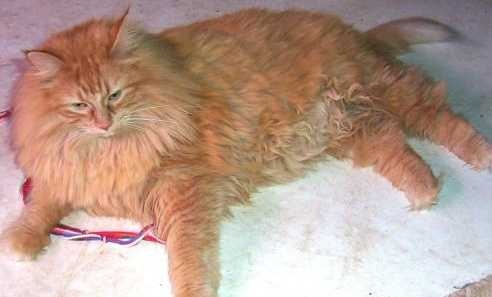Cat: (29, 9, 491, 296)
